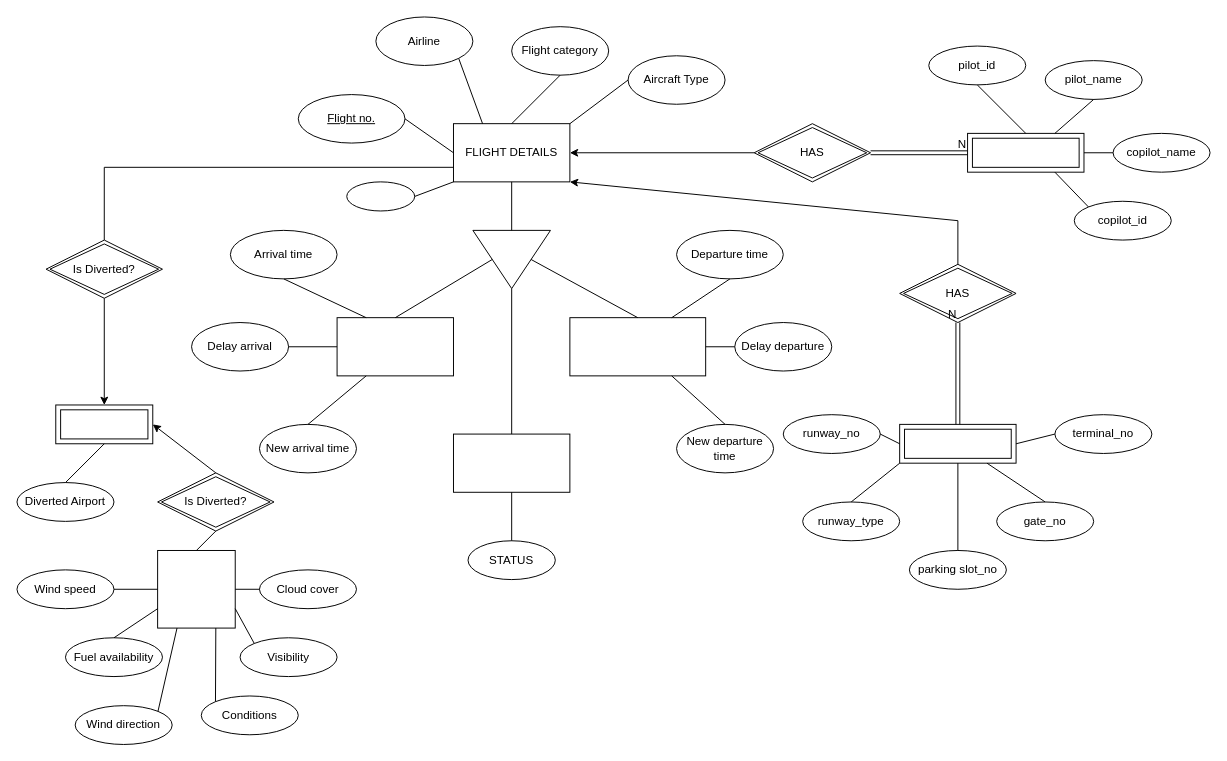
The diagram is 1227 pixels wide and 761 high, and some of its shapes have lost their labels. The box of each missing label's shape, as (x1, y1, x2, y2) in pixels:
CANCELLATION: (453, 433, 570, 492)
Crew Information: (967, 132, 1084, 172)
Date: (346, 181, 415, 211)
DIVERSION: (55, 404, 153, 444)
FLIGHT ARRIVING: (336, 317, 453, 376)
FLIGHT DEPARTING: (569, 317, 706, 376)
Ground Operation: (899, 423, 1016, 463)
Weather information and fuel availability: (157, 550, 235, 628)
